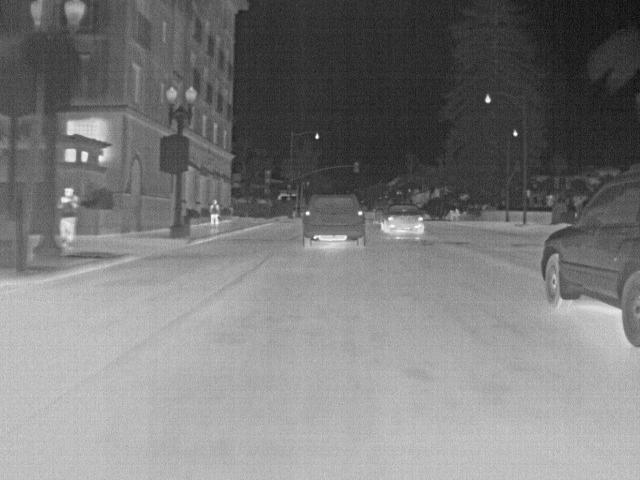car: (534, 169, 640, 349), (301, 192, 366, 250), (381, 204, 426, 238), (364, 209, 376, 226)
person: (58, 186, 80, 244), (209, 197, 223, 231)
